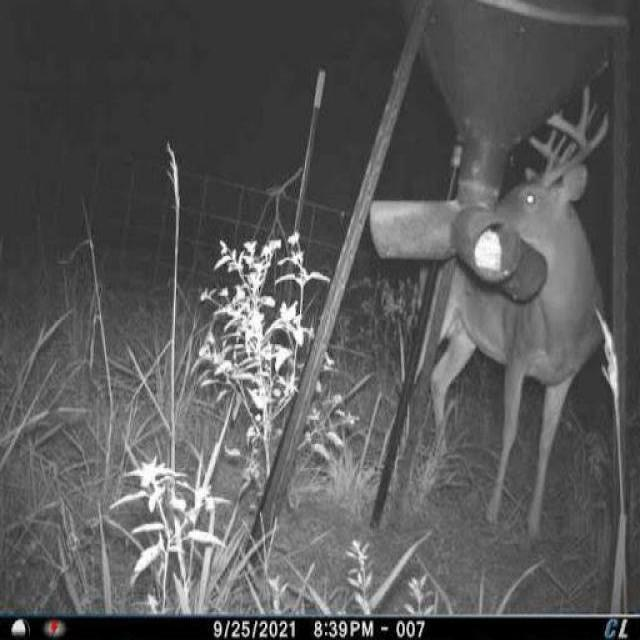deer: (396, 79, 612, 545)
